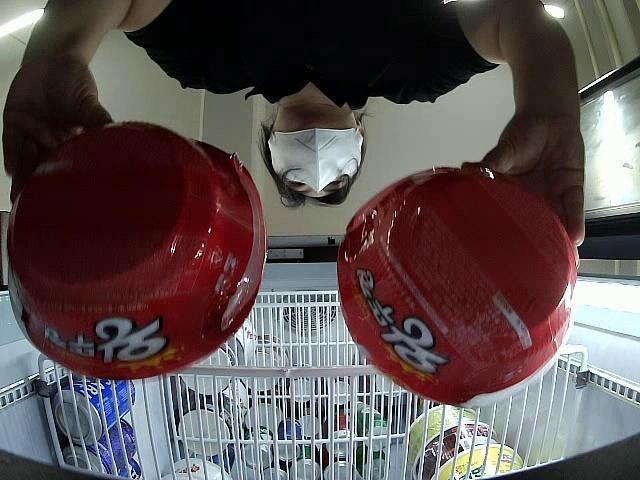00_hand: (2, 59, 114, 205), (463, 116, 585, 249)
10_wangTtukkeong: (6, 120, 263, 381), (336, 165, 578, 407)
